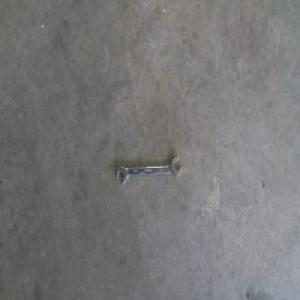Wrench: (115, 154, 182, 181)
